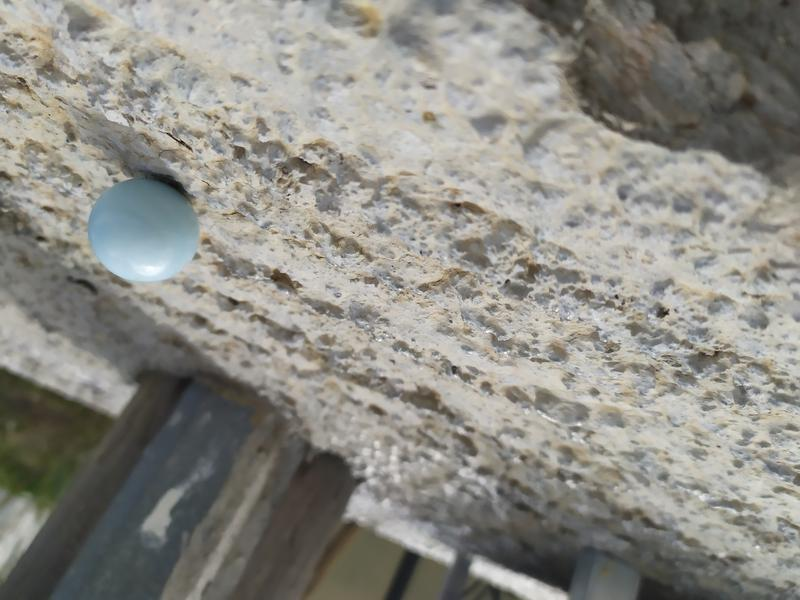Warning: (83, 174, 205, 286)
